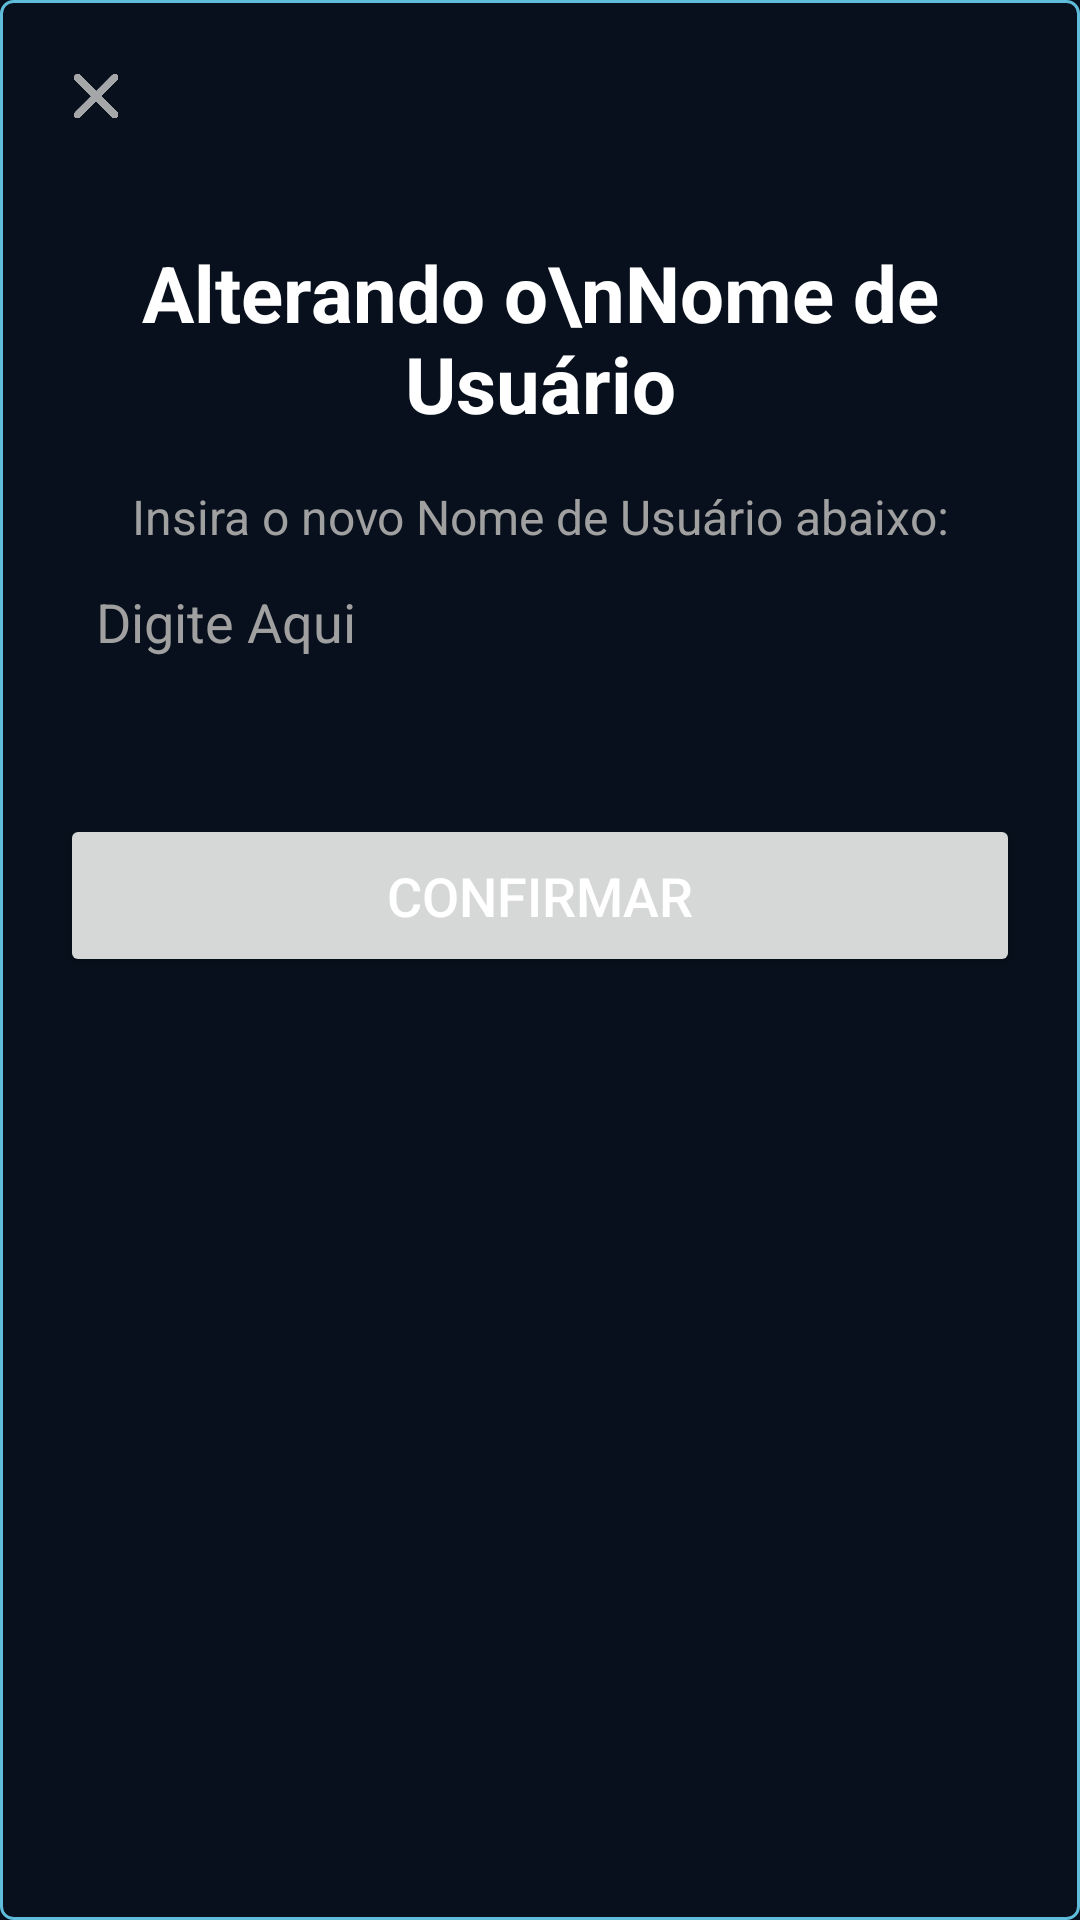

Point at icon controls on the screen. Image size 1080w x 1920h, points as point (x, y).
close: point (96, 96)
